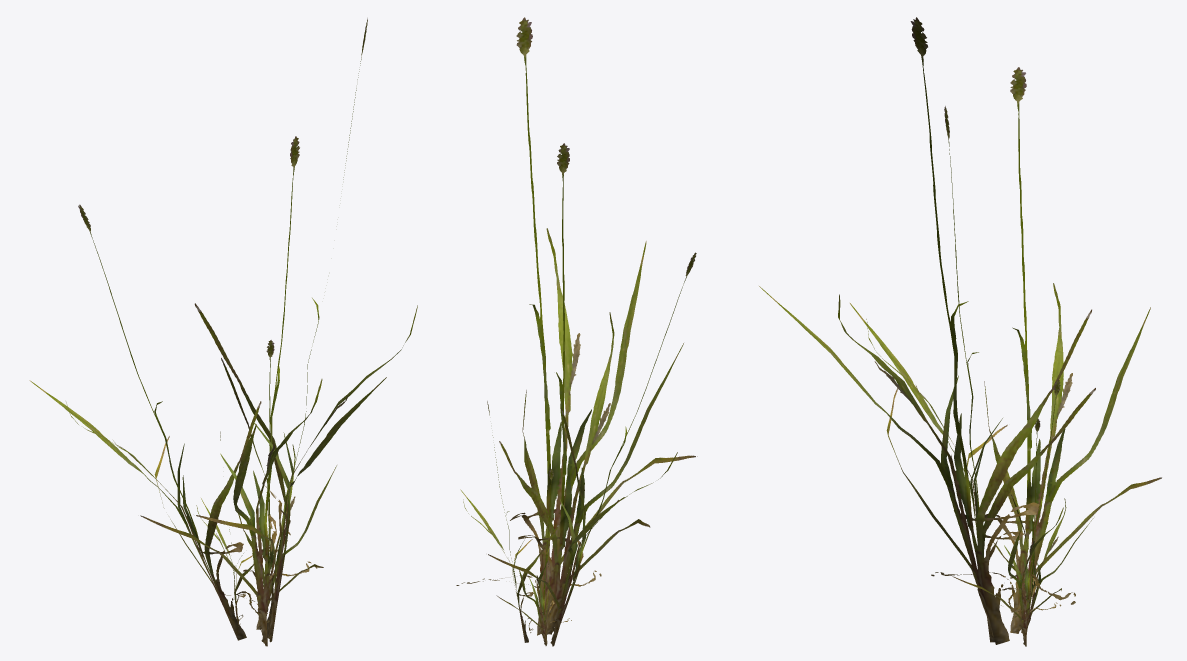
File: grass_setaria.glb
3 renders of one model, left to right at view 1: azimuth 30°, elevation 25°; view 2: azimuth 150°, elevation 25°; view 3: azimuth 270°, elevation 25°, orthographic. The views are drawn at different scales.
Parts seen in each view (by area): view 1: maxtree_plant; view 2: maxtree_plant; view 3: maxtree_plant.
Part boxes in pixels (x1,y1,x2,y2): maxtree_plant: (29,18,417,646); maxtree_plant: (456,17,697,646); maxtree_plant: (759,17,1161,646).
Size of the model in its own units: 0.109 by 0.2524 by 0.1495.
1 material, 1 textured.
